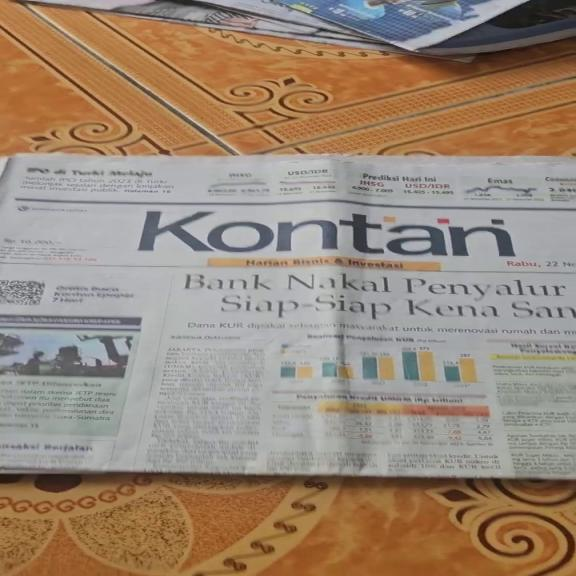Kertas: (4, 154, 570, 472)
